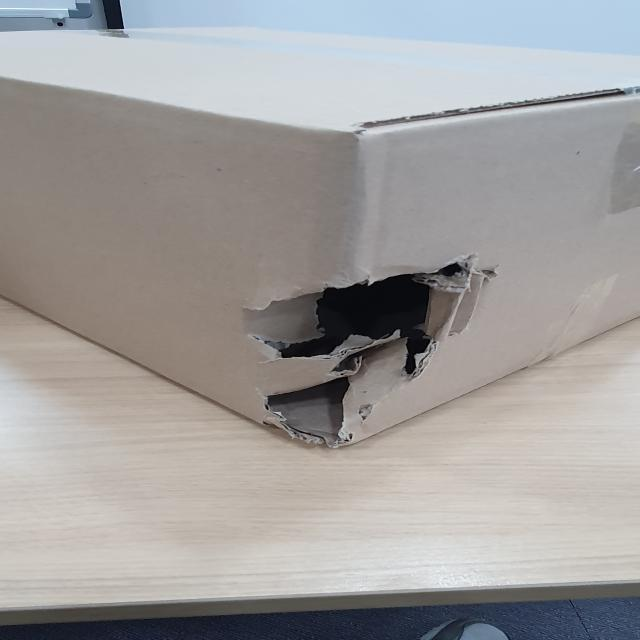hole: (233, 254, 493, 430)
